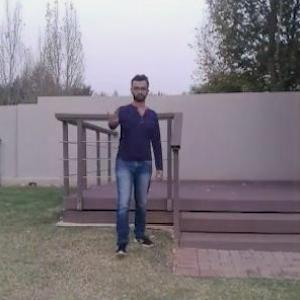takeoff-hand: (102, 99, 124, 129)
